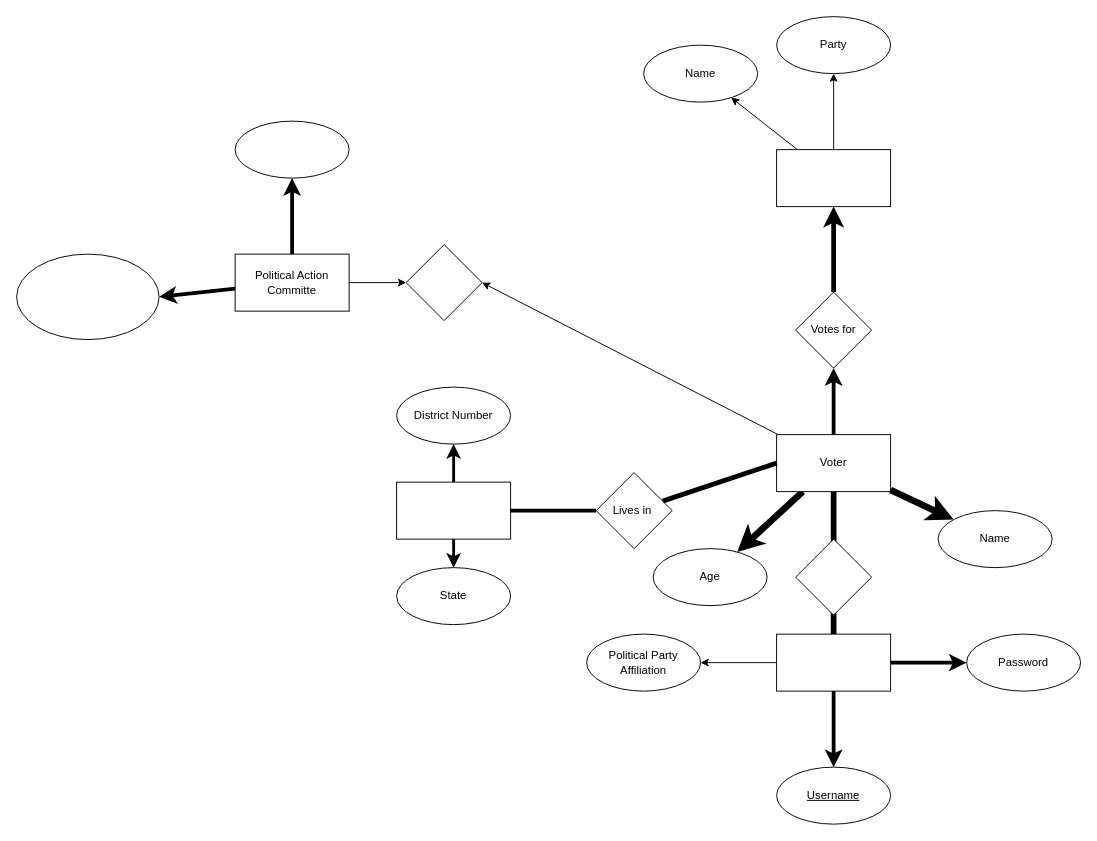
Some shapes in this 1097 by 841 pixel diagram are drawn without their labels. Here are the shapes that lost their labels. From the top down, the centre of each, then its label:
[291,149]: Name of PAC
[833,178]: Candidate
[87,296]: Issue PAC is focused on
[443,282]: Supports/Has
[453,510]: District
[833,576]: Has an
[833,662]: Account
